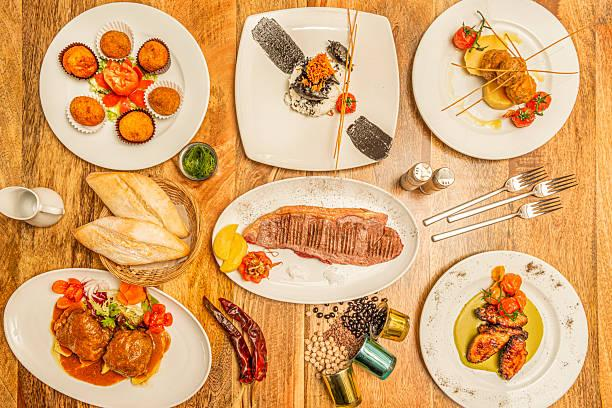Braised Crucian Carp: (3, 266, 215, 408), (38, 2, 208, 170), (234, 6, 396, 172), (411, 0, 578, 161), (418, 251, 587, 408), (213, 177, 415, 305)
